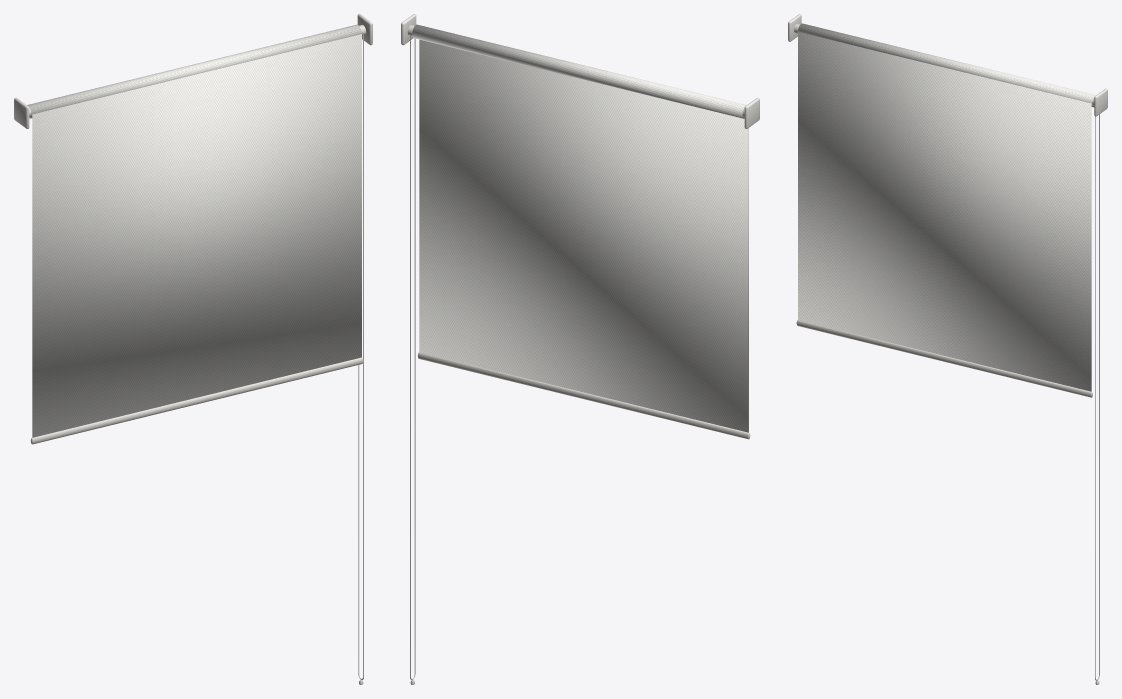
Rendered from estor_enrollable_220_c50.glb.
The picture shows the model from 3 angles, left to right: view 1: azimuth 30°, elevation 25°; view 2: azimuth 150°, elevation 25°; view 3: azimuth 330°, elevation 25°; orthographic projection. The views are drawn at different scales.
Visible parts, largest first — view 1: estor_enrollable_220_c50; view 2: estor_enrollable_220_c50; view 3: estor_enrollable_220_c50.
Part boxes in pixels (x1,y1,x2,y2): estor_enrollable_220_c50: [14, 14, 372, 684]; estor_enrollable_220_c50: [401, 14, 759, 684]; estor_enrollable_220_c50: [788, 14, 1107, 684].
Bounding box in the file's own units: 1.2 × 2.2 × 0.08.
Materials: 4 (1 with a texture image).
